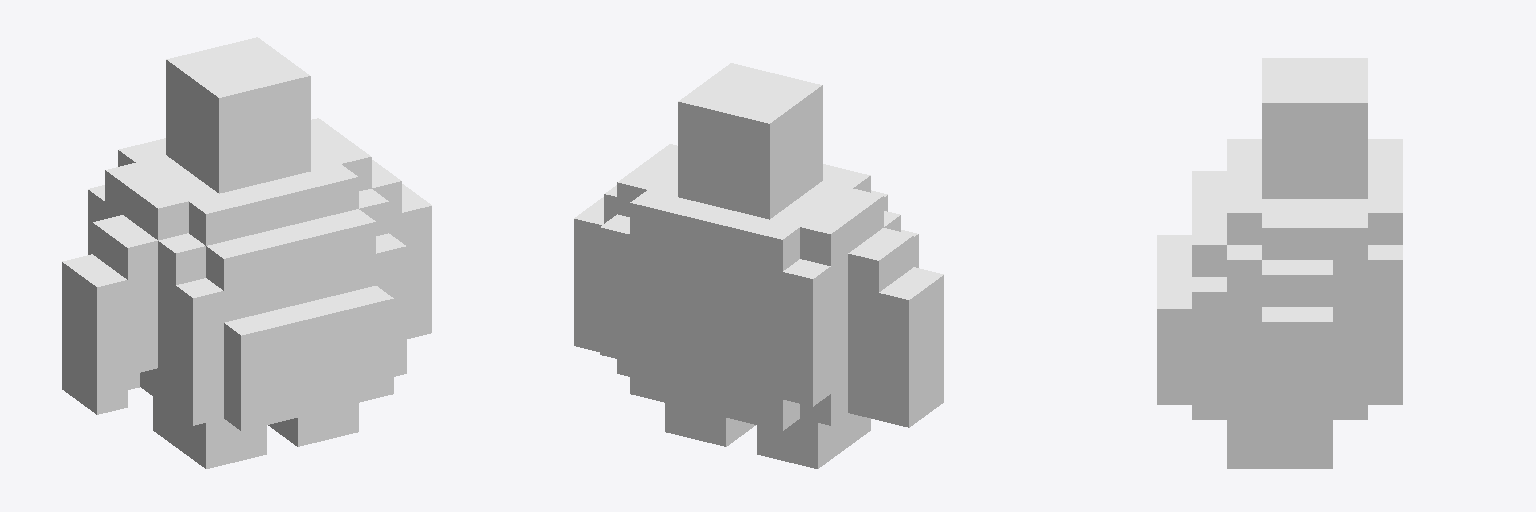
File: massive.obj
The picture shows the model from 3 angles: view 1: azimuth 30°, elevation 25°; view 2: azimuth 150°, elevation 25°; view 3: azimuth 270°, elevation 25°; orthographic projection.
Visible parts, largest first — view 1: object 1; view 2: object 1; view 3: object 1.
Boxes of the visible parts, x1,y1,x2,y2 form: object 1: [62, 37, 431, 468]; object 1: [574, 63, 943, 468]; object 1: [1157, 58, 1402, 468].
Bounding box in the file's own units: 1.1 × 1.1 × 0.7.